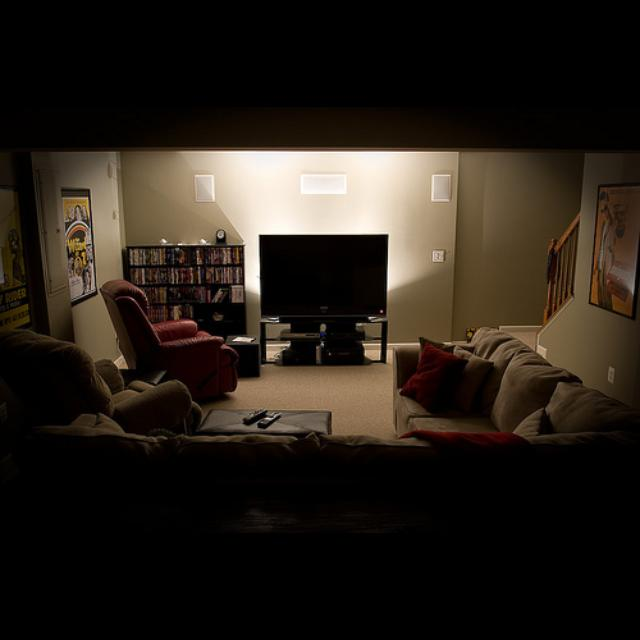Flat-Panel-TV: (259, 234, 387, 322)
TV-Remote-Control: (243, 406, 268, 425), (257, 411, 282, 428)
